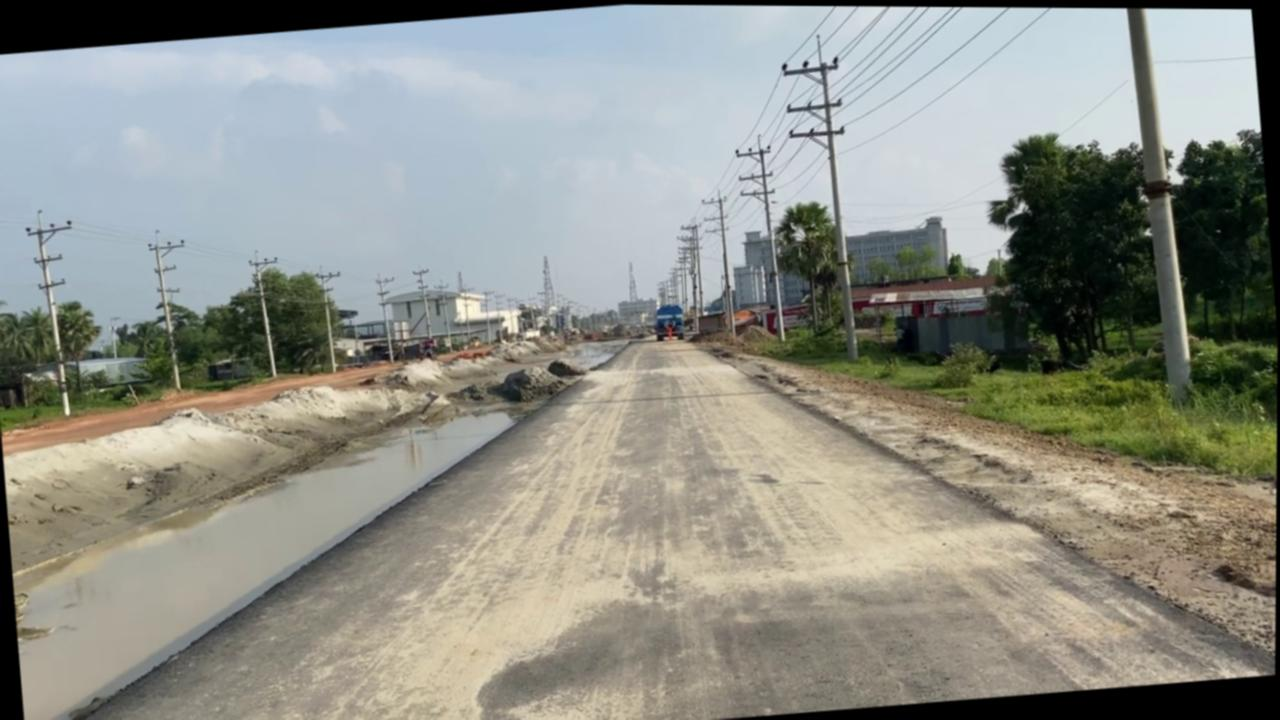Pole: (800, 44, 916, 363), (1114, 6, 1190, 391), (135, 213, 193, 408), (239, 231, 287, 385)
Rickshaw: (305, 232, 1267, 720)
Sidewalk: (0, 382, 622, 720)
Traffic-sign: (1027, 122, 1231, 360), (828, 194, 921, 334)
Tree: (656, 306, 688, 342), (289, 350, 333, 376)
